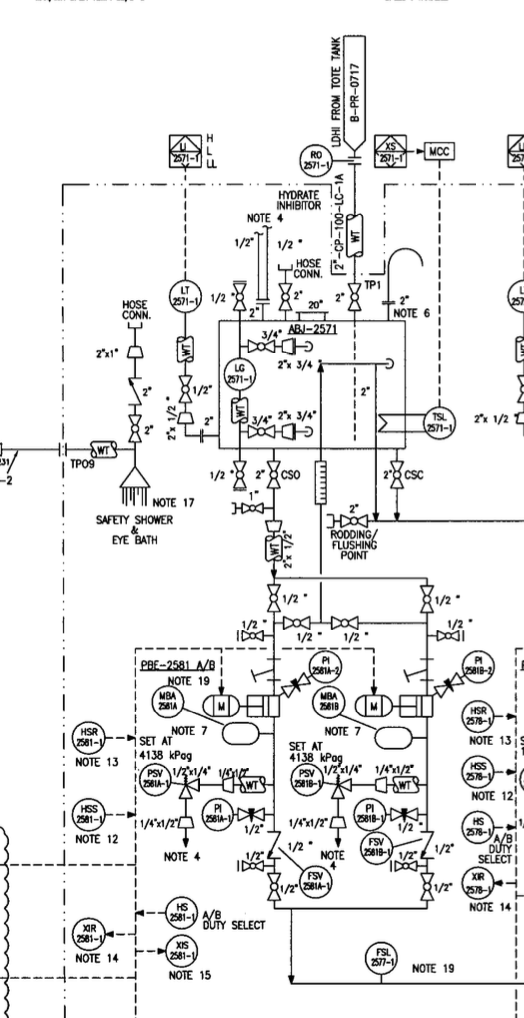Instrument: (354, 933, 404, 979), (155, 891, 200, 935), (66, 716, 112, 758), (294, 859, 337, 902), (162, 934, 211, 970), (457, 863, 498, 904), (454, 749, 496, 789), (459, 805, 498, 847), (147, 682, 189, 721), (167, 277, 207, 317), (222, 354, 261, 395), (355, 829, 396, 867), (299, 137, 336, 179), (136, 761, 175, 799), (307, 648, 346, 686), (69, 795, 108, 833), (350, 794, 392, 829), (71, 912, 105, 954), (458, 697, 496, 734), (309, 685, 346, 721), (423, 402, 456, 441), (201, 797, 237, 831)
Instrument-square: (370, 126, 413, 172), (164, 132, 205, 173)
